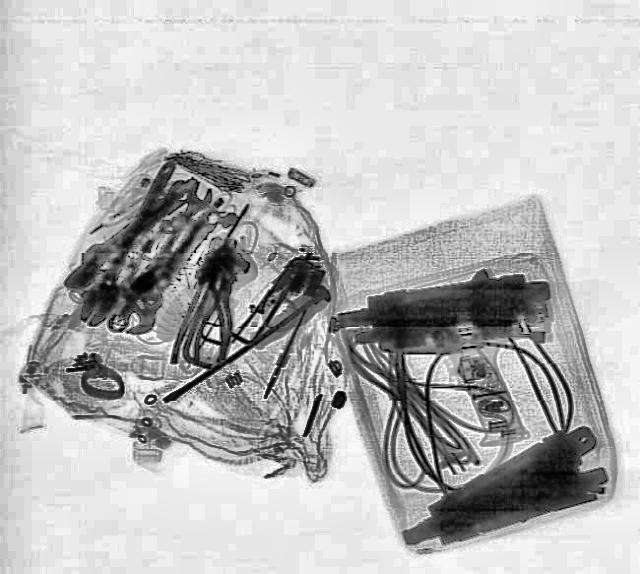Pliers: (187, 258, 247, 366)
Wrench: (70, 153, 186, 327), (49, 175, 205, 295), (104, 200, 236, 341)
